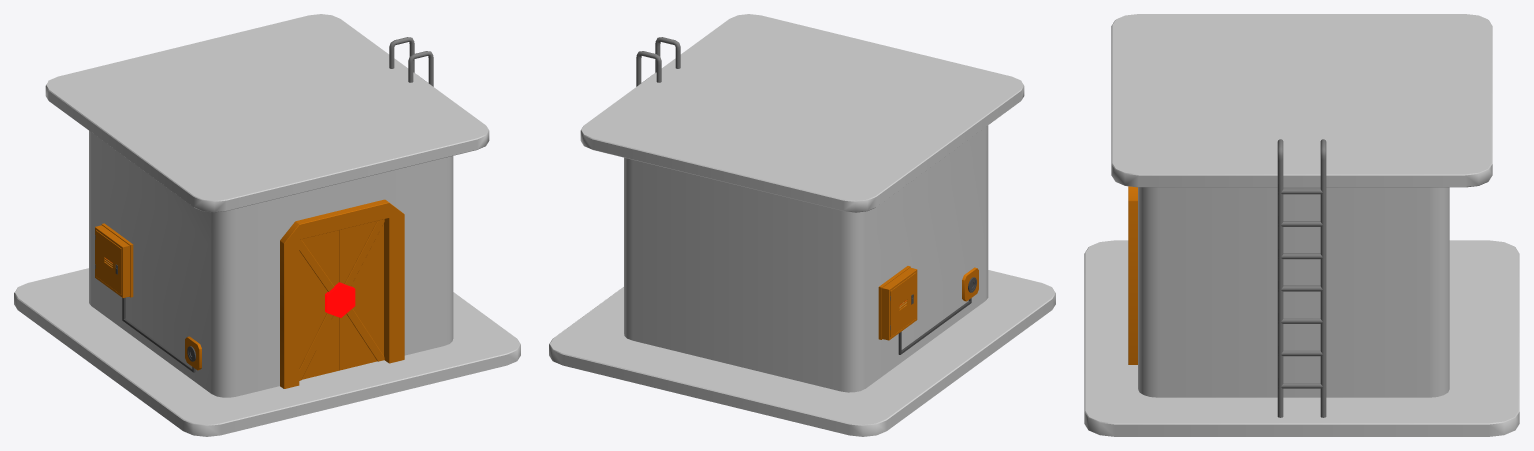
File: Outpost.fbx
The picture shows the model from 3 angles, left to right: view 1: azimuth 30°, elevation 25°; view 2: azimuth 150°, elevation 25°; view 3: azimuth 270°, elevation 25°; orthographic projection. The views are drawn at different scales.
Visible parts, largest first — view 1: Roof, Walls, Foundation, Main Door, Left Door, Right Door, Power Box Door, Power Box, Door Indicator, Ladder; view 2: Walls, Roof, Foundation, Power Box Door, Power Box, Ladder; view 3: Roof, Walls, Foundation, Ladder, Main Door.
Part boxes in pixels (x1,y1,x2,y2): Roof: (45,14,489,212); Walls: (89,131,453,397); Foundation: (14,268,520,436); Main Door: (280,199,404,388); Left Door: (339,219,384,370); Right Door: (299,230,338,380); Power Box Door: (96,230,121,294); Power Box: (95,223,133,297); Door Indicator: (325,282,355,317); Ladder: (389,37,433,86); Walls: (624,125,988,392); Roof: (580,14,1024,212); Foundation: (549,270,1055,436); Power Box Door: (890,272,916,337); Power Box: (878,266,917,340); Ladder: (636,37,680,86); Roof: (1111,14,1492,187); Walls: (1138,187,1449,397); Foundation: (1084,240,1519,436); Ladder: (1277,139,1326,417); Main Door: (1128,186,1137,364).
Size of the model in its own units: 9.28 by 9.28 by 6.61.
